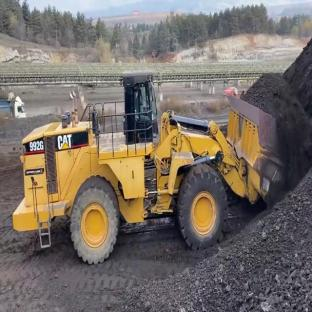ExcavationMachinery: (114, 51, 312, 224)
